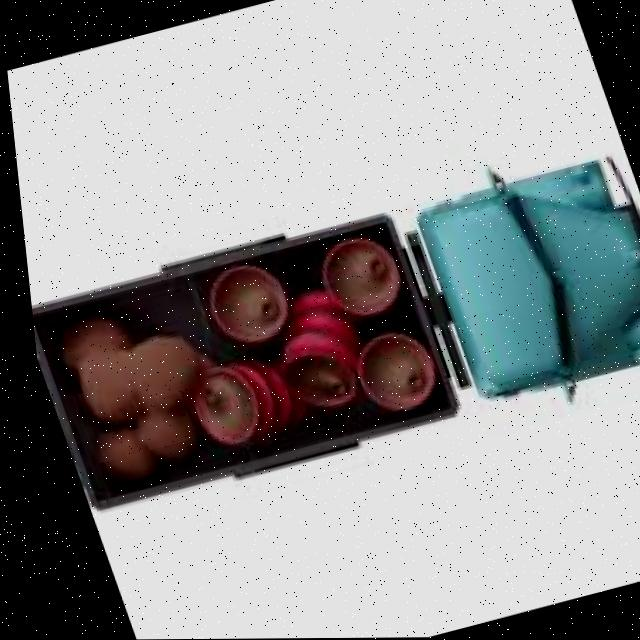truck: (12, 142, 640, 512)
